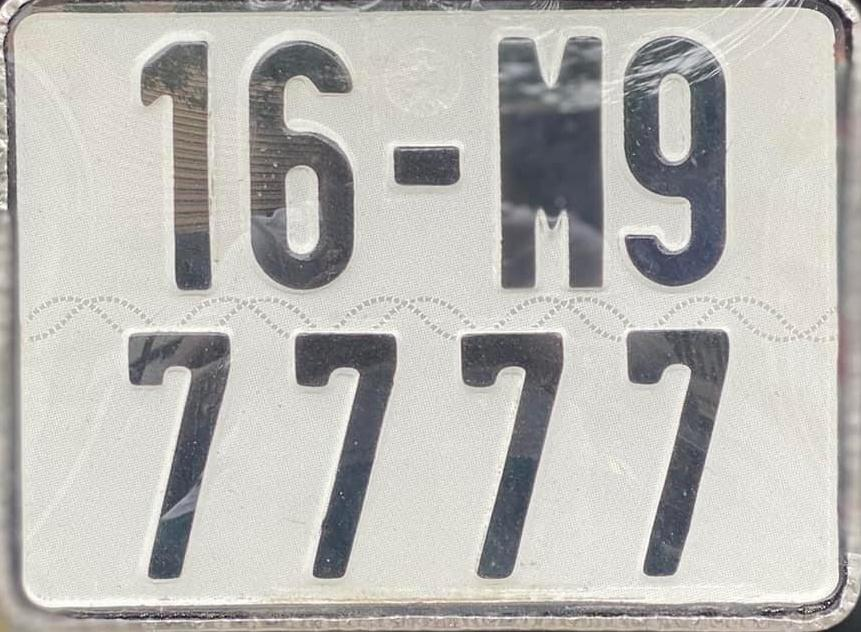-: (394, 148, 463, 186)
1: (143, 44, 213, 290)
6: (248, 39, 354, 288)
7: (129, 330, 233, 579), (461, 333, 566, 578), (626, 330, 730, 576), (295, 334, 396, 579)
9: (624, 38, 727, 287)
M: (499, 35, 602, 288)
